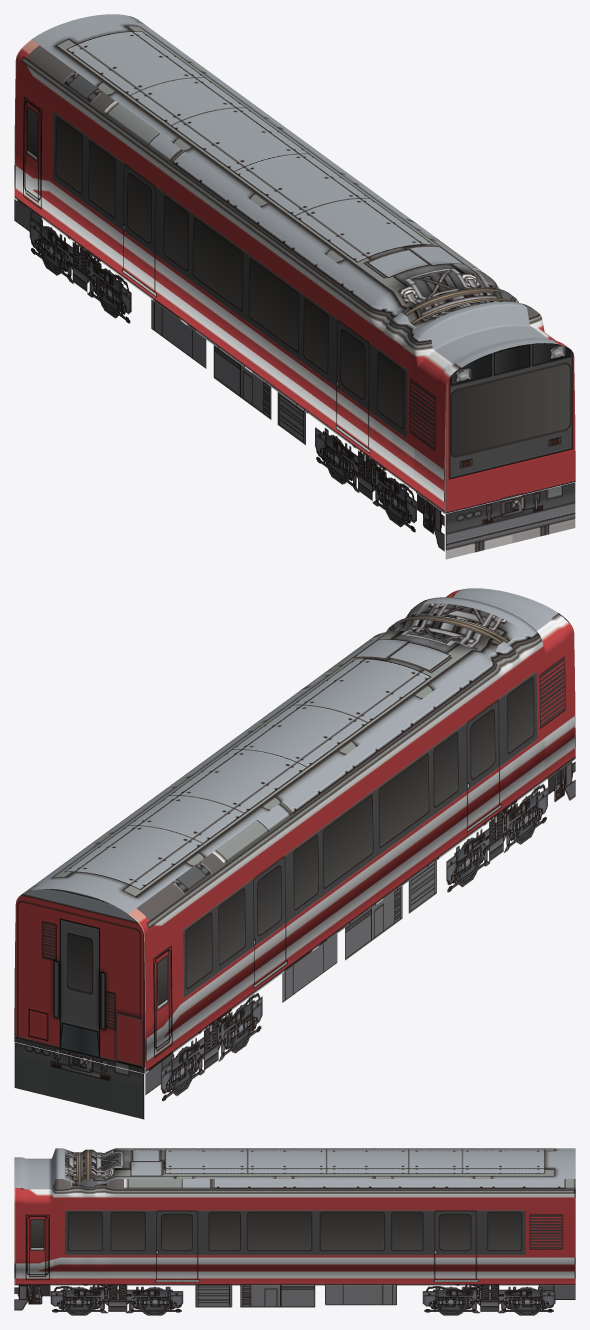
Rendered from car1.glb.
The picture shows the model from 3 angles, top to bottom: view 1: azimuth 30°, elevation 25°; view 2: azimuth 150°, elevation 25°; view 3: azimuth 270°, elevation 25°; orthographic projection. The views are drawn at different scales.
Visible parts, largest first — view 1: hakonetozan-2000; view 2: hakonetozan-2000; view 3: hakonetozan-2000.
Part boxes in pixels (x1,y1,x2,y2): hakonetozan-2000: (14, 14, 575, 559); hakonetozan-2000: (14, 588, 575, 1119); hakonetozan-2000: (14, 1148, 575, 1315).
Bounding box in the file's own units: 2.58 × 3.95 × 14.69.
8 materials, 7 textured.
